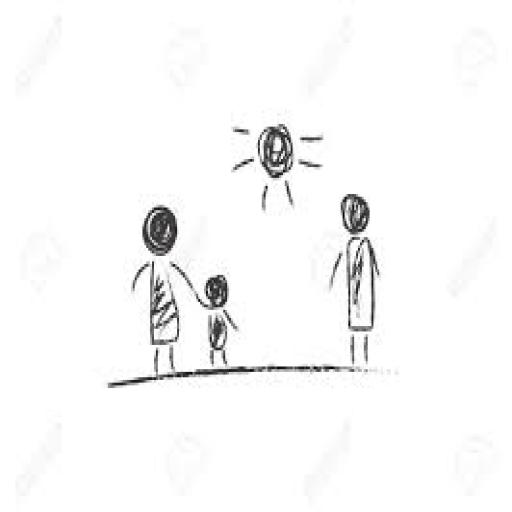person: (122, 199, 198, 380), (327, 188, 384, 378), (197, 272, 240, 372)
